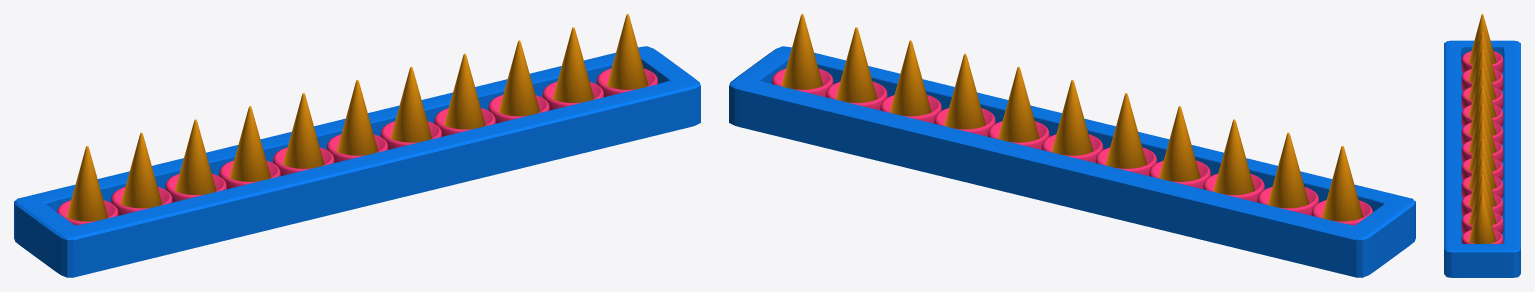
3 renders of one model, left to right at view 1: azimuth 30°, elevation 25°; view 2: azimuth 150°, elevation 25°; view 3: azimuth 270°, elevation 25°, orthographic. The views are drawn at different scales.
Visible parts, largest first — view 1: Zemin.002, Merkez.006, Thorn.003, Thorn, Thorn.002, Thorn.001, Thorn.005, Thorn.004, Thorn.010, Thorn.009, Thorn.007, Thorn.006 (+1 smaller); view 2: Zemin.002, Merkez.006, Thorn.003, Thorn, Thorn.001, Thorn.005, Thorn.002, Thorn.009, Thorn.004, Thorn.010, Thorn.006, Thorn.007 (+1 smaller); view 3: Zemin.002, Merkez.006, Thorn.001, Thorn.008, Thorn.004, Thorn.002, Thorn.006, Thorn.007, Thorn.003, Thorn.010, Thorn.005, Thorn (+1 smaller).
Boxes of the visible parts, x1=… form: Zemin.002: x1=14, y1=46, x2=700, y2=277; Merkez.006: x1=57, y1=68, x2=658, y2=225; Thorn.003: x1=498, y1=40, x2=539, y2=116; Thorn: x1=390, y1=66, x2=432, y2=142; Thorn.002: x1=552, y1=27, x2=594, y2=102; Thorn.001: x1=607, y1=14, x2=648, y2=89; Thorn.005: x1=336, y1=80, x2=378, y2=155; Thorn.004: x1=444, y1=53, x2=485, y2=129; Thorn.010: x1=283, y1=93, x2=324, y2=168; Thorn.009: x1=229, y1=106, x2=270, y2=181; Thorn.007: x1=121, y1=132, x2=162, y2=208; Thorn.006: x1=66, y1=146, x2=107, y2=221; Zemin.002: x1=729, y1=46, x2=1415, y2=277; Merkez.006: x1=772, y1=68, x2=1372, y2=225; Thorn.003: x1=890, y1=40, x2=931, y2=116; Thorn: x1=998, y1=66, x2=1039, y2=142; Thorn.001: x1=781, y1=14, x2=823, y2=89; Thorn.005: x1=1051, y1=80, x2=1093, y2=155; Thorn.002: x1=835, y1=27, x2=877, y2=102; Thorn.009: x1=1159, y1=106, x2=1200, y2=181; Thorn.004: x1=944, y1=53, x2=985, y2=129; Thorn.010: x1=1105, y1=93, x2=1147, y2=168; Thorn.006: x1=1322, y1=146, x2=1363, y2=221; Thorn.007: x1=1267, y1=132, x2=1309, y2=208; Zemin.002: x1=1444, y1=40, x2=1520, y2=277; Merkez.006: x1=1461, y1=51, x2=1503, y2=243; Thorn.001: x1=1468, y1=193, x2=1496, y2=243; Thorn.008: x1=1468, y1=50, x2=1496, y2=100; Thorn.004: x1=1468, y1=139, x2=1496, y2=189; Thorn.002: x1=1468, y1=175, x2=1496, y2=225; Thorn.006: x1=1468, y1=14, x2=1496, y2=64; Thorn.007: x1=1468, y1=32, x2=1496, y2=82; Thorn.003: x1=1468, y1=157, x2=1496, y2=207; Thorn.010: x1=1468, y1=85, x2=1496, y2=135; Thorn.005: x1=1468, y1=103, x2=1496, y2=153; Thorn: x1=1468, y1=121, x2=1496, y2=171.
Size of the model in its own units: 64.46 by 9.88 by 9.9.
